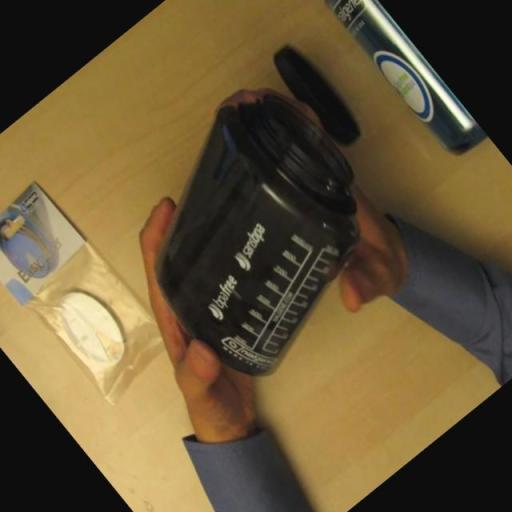bottle: (92, 64, 421, 395)
